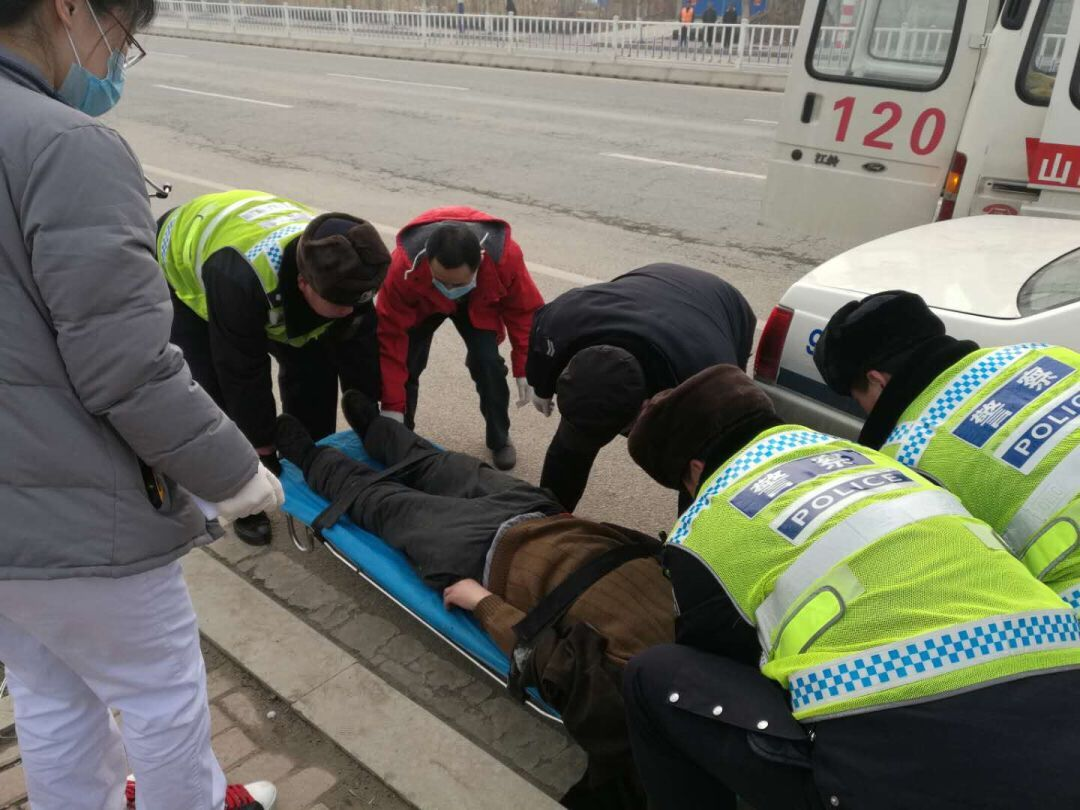fall: (269, 371, 707, 710)
